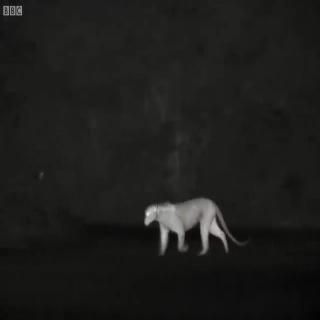Leopard: (138, 178, 248, 272)
